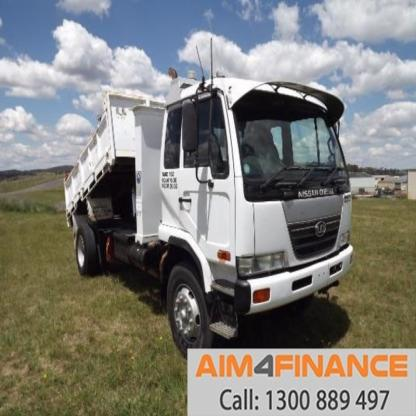dump_truck: (52, 63, 381, 349)
